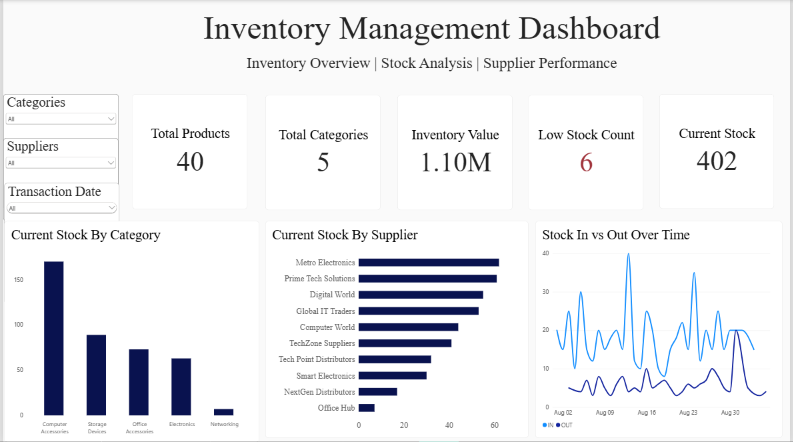

The dashboard page shown, as its layout file describes it:
{"tool":"powerbi","page":{"name":"Basic Details","canvas":[1920,1080],"ordinal":0},"visuals":[{"type":"textbox","box":[456.2,0,1285.8,202.5],"z":0},{"type":"slicer","fields":{"Values":["public categories.category_name"]},"box":[0,229.3,280.6,107.4],"z":1000},{"type":"slicer","fields":{"Values":["public suppliers.supplier_name"]},"box":[0,336.7,280.6,109.8],"z":2000},{"type":"slicer","fields":{"Values":["public stock_transactions.transaction_date"]},"box":[2.4,446.5,280.6,92.7],"z":3000},{"type":"textbox","box":[414.8,22,1261.4,200.1],"z":4000},{"type":"cardVisual","fields":{"Data":["public categories.Total Products"]},"box":[314.7,229.3,281,281],"z":5000},{"type":"cardVisual","fields":{"Data":["public categories.Current Stock"]},"box":[1600.5,229.3,280.6,280.6],"z":6000},{"type":"cardVisual","fields":{"Data":["public categories.Inventory Value"]},"box":[961.3,231.8,281,281],"z":7000},{"type":"cardVisual","fields":{"Data":["public categories.Low Stock Count"]},"box":[1280.9,231.8,281,281],"z":8000},{"type":"clusteredColumnChart","title":"Current Stock By Category","fields":{"Category":["public categories.category_name"],"Y":["public categories.Current Stock"]},"box":[2.4,539.2,622.2,541.6],"z":9000},{"type":"clusteredBarChart","title":"Current Stock By Supplier ","fields":{"Category":["public suppliers.supplier_name"],"Y":["public categories.Current Stock"]},"box":[639.2,539.2,641.7,529.4],"z":10000},{"type":"lineChart","title":"Stock In vs Out Over Time","fields":{"Category":["public stock_transactions.transaction_date"],"Y":["Sum(public stock_transactions.quantity)"],"Series":["public stock_transactions.transaction_type"]},"box":[1298,539.2,602.6,529.4],"z":11000},{"type":"cardVisual","fields":{"Data":["public categories.Total Categories"]},"box":[639.2,231.8,281,281],"z":12000},{"type":"actionButton","box":[1742,73.2,139.1,48.8],"z":12001}]}

Visuals, with their boxes in screenshot pixels (x1, y1, x2, y2), scaled from the page's 1920x1080 canvas onto the 793x442 screenshot:
textbox: (188, 0, 719, 83)
slicer - public categories.category_name: (0, 94, 116, 138)
slicer - public suppliers.supplier_name: (0, 138, 116, 183)
slicer - public stock_transactions.transaction_date: (1, 183, 117, 221)
textbox: (171, 9, 692, 91)
cardVisual - public categories.Total Products: (130, 94, 246, 209)
cardVisual - public categories.Current Stock: (661, 94, 777, 209)
cardVisual - public categories.Inventory Value: (397, 95, 513, 210)
cardVisual - public categories.Low Stock Count: (529, 95, 645, 210)
"Current Stock By Category" clusteredColumnChart: (1, 221, 258, 441)
"Current Stock By Supplier " clusteredBarChart: (264, 221, 529, 437)
"Stock In vs Out Over Time" lineChart: (536, 221, 785, 437)
cardVisual - public categories.Total Categories: (264, 95, 380, 210)
actionButton: (719, 30, 777, 50)
